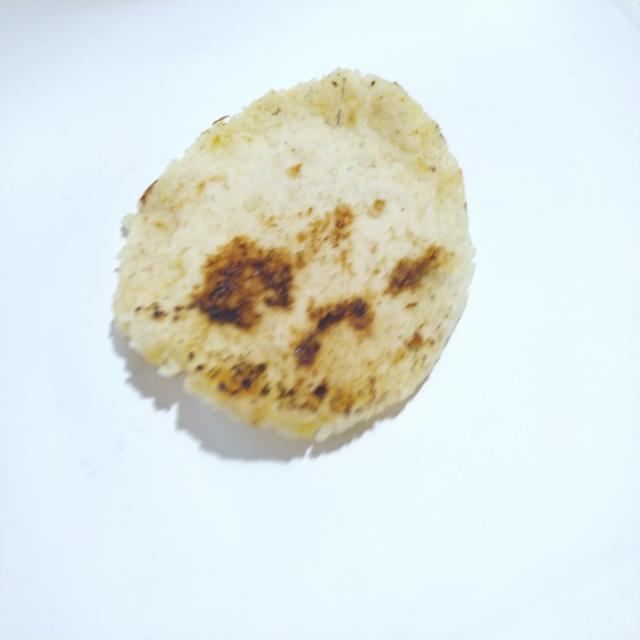Food: (106, 58, 484, 463)
